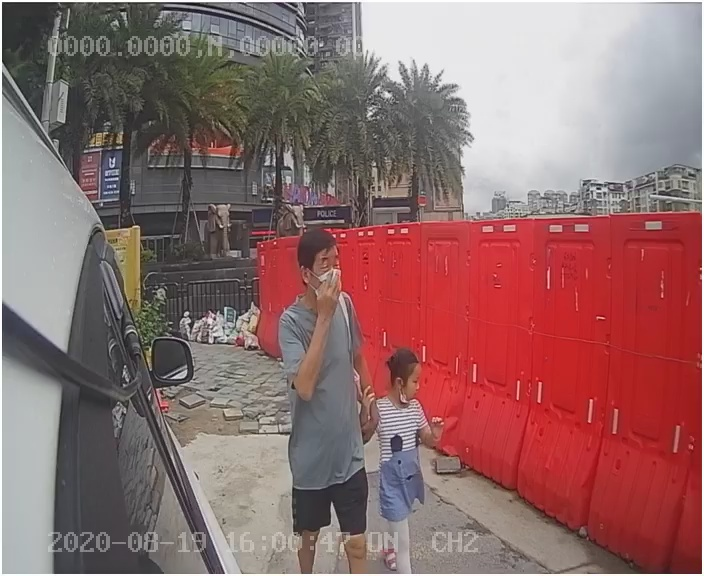person: (259, 223, 387, 529)
